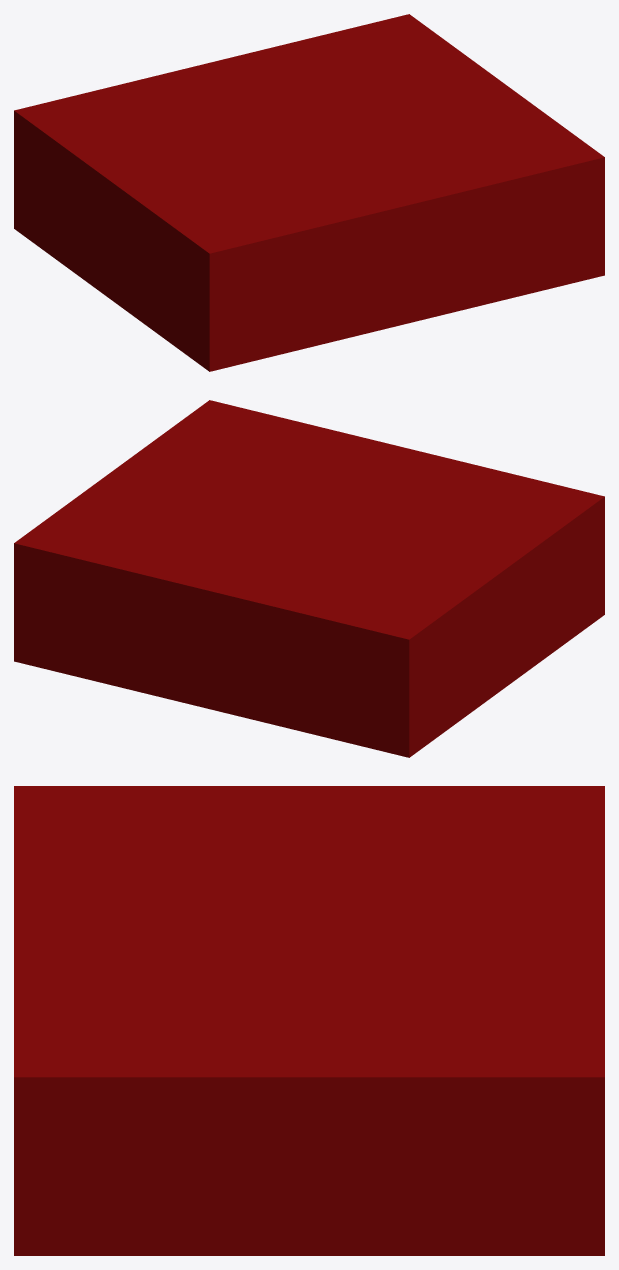
Rendered from ExporterObject.fbx.
The picture shows the model from 3 angles, top to bottom: view 1: azimuth 30°, elevation 25°; view 2: azimuth 150°, elevation 25°; view 3: azimuth 270°, elevation 25°; orthographic projection. The views are drawn at different scales.
Parts seen in each view (by area): view 1: VoxelMesh(Clone); view 2: VoxelMesh(Clone); view 3: VoxelMesh(Clone).
Part boxes in pixels (x1,y1,x2,y2): VoxelMesh(Clone): [14, 14, 604, 371]; VoxelMesh(Clone): [14, 400, 604, 757]; VoxelMesh(Clone): [14, 786, 604, 1255].
Bounding box in the file's own units: 7 × 2 × 6.
